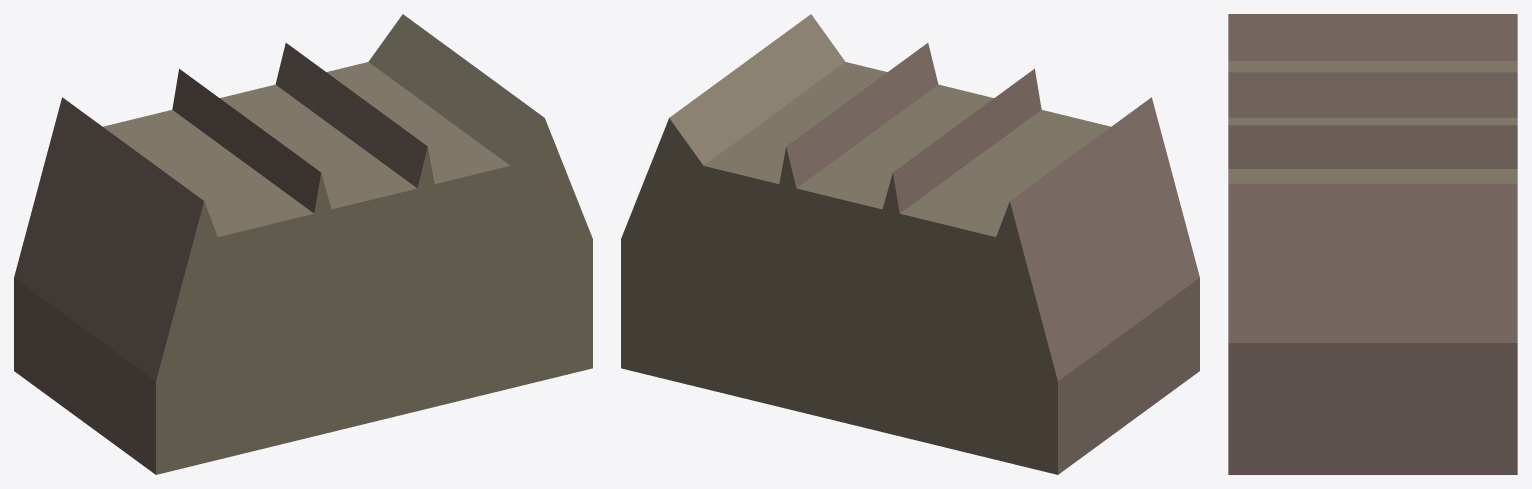
File: bg_city_ruin_1_lod2.glb
3 renders of one model, left to right at view 1: azimuth 30°, elevation 25°; view 2: azimuth 150°, elevation 25°; view 3: azimuth 270°, elevation 25°, orthographic. The views are drawn at different scales.
Visible parts, largest first — view 1: body; view 2: body; view 3: body.
Boxes of the visible parts, <box> form: body: <box>14,14,592,474</box>; body: <box>621,14,1199,474</box>; body: <box>1228,14,1517,474</box>.
Bounding box in the file's own units: 9 × 5.16 × 5.06.
